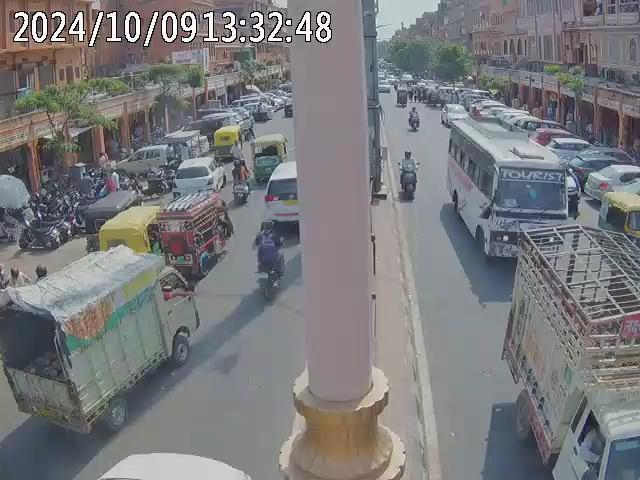auto: (149, 190, 233, 282), (595, 189, 639, 283), (249, 133, 287, 184), (211, 124, 243, 161), (396, 89, 409, 107)
bus: (445, 117, 577, 260)
car: (262, 159, 297, 232), (583, 162, 639, 204), (172, 155, 225, 197), (544, 136, 593, 165), (497, 109, 534, 130), (460, 89, 491, 104), (375, 81, 392, 93)
lorry: (0, 244, 201, 435), (499, 220, 640, 480)
motorbike-rider: (251, 226, 286, 301)
scooty-rider: (397, 149, 418, 200), (230, 160, 250, 204), (407, 107, 421, 131)
